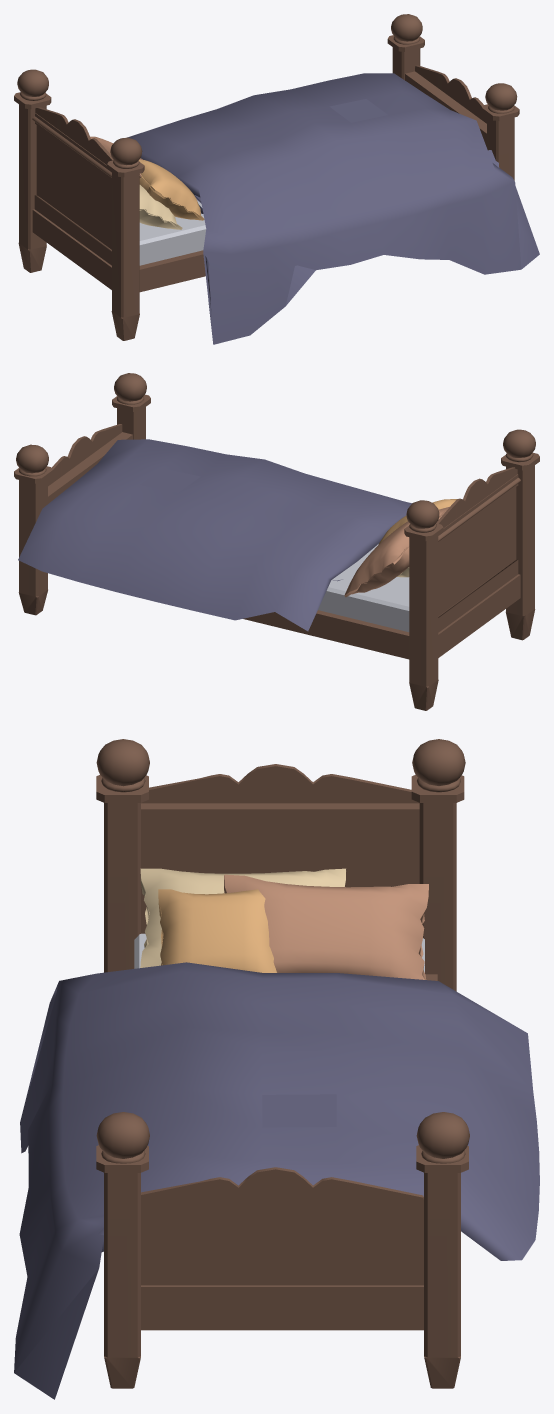
Rendered from Enviro_Bed_001 (2).fbx.
The picture shows the model from 3 angles, top to bottom: view 1: azimuth 30°, elevation 25°; view 2: azimuth 150°, elevation 25°; view 3: azimuth 270°, elevation 25°; orthographic projection. The views are drawn at different scales.
Parts seen in each view (by area): view 1: polySurface24, polySurface11, polySurface22, polySurface26, polySurface30; view 2: polySurface24, polySurface11, polySurface22, polySurface28; view 3: polySurface24, polySurface11, polySurface28, polySurface26, polySurface30.
Part boxes in pixels (x1,y1,x2,y2): polySurface24: (127, 73, 539, 344); polySurface11: (14, 14, 519, 340); polySurface22: (139, 200, 206, 265); polySurface26: (138, 159, 204, 220); polySurface30: (139, 185, 182, 229); polySurface24: (18, 439, 411, 631); polySurface11: (14, 373, 539, 710); polySurface22: (318, 544, 409, 632); polySurface28: (344, 506, 449, 597); polySurface24: (14, 962, 539, 1399); polySurface11: (96, 739, 469, 1388); polySurface28: (224, 874, 428, 979); polySurface26: (158, 889, 276, 972); polySurface30: (140, 868, 346, 967).
Bounding box in the file's own units: 7565 × 3504 × 4990.
